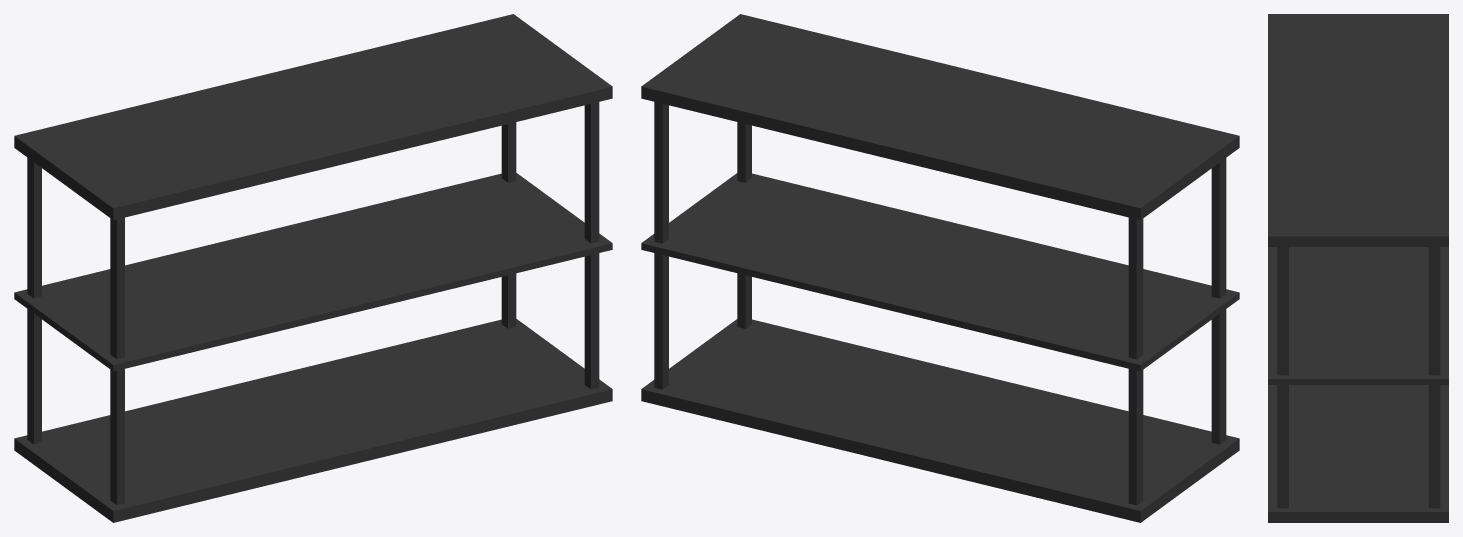
Rendered from Expositor_2x1_A.obj.
3 renders of one model, left to right at view 1: azimuth 30°, elevation 25°; view 2: azimuth 150°, elevation 25°; view 3: azimuth 270°, elevation 25°, orthographic. The views are drawn at different scales.
Visible parts, largest first — view 1: Expositor_2x1_A; view 2: Expositor_2x1_A; view 3: Expositor_2x1_A.
Boxes of the visible parts, x1=… form: Expositor_2x1_A: x1=14, y1=14, x2=612, y2=522; Expositor_2x1_A: x1=641, y1=14, x2=1239, y2=522; Expositor_2x1_A: x1=1268, y1=14, x2=1448, y2=522.
Bounding box in the file's own units: 1.38 × 0.8324 × 0.4754.
